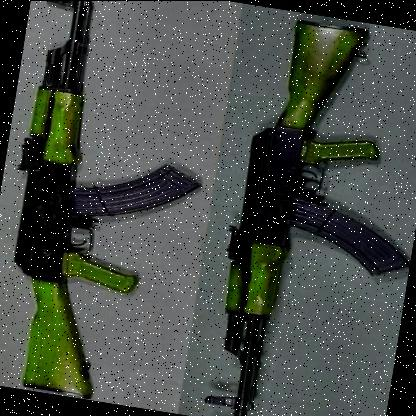rifle: (0, 0, 227, 412), (187, 13, 416, 416)
